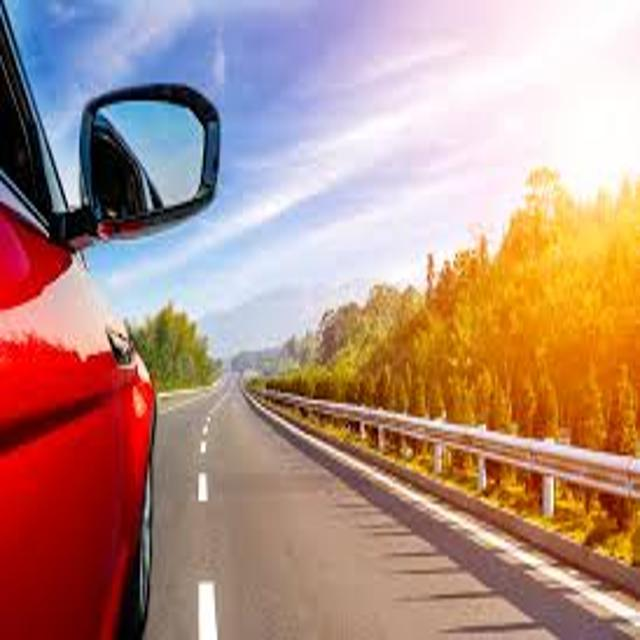car: (1, 1, 218, 637)
